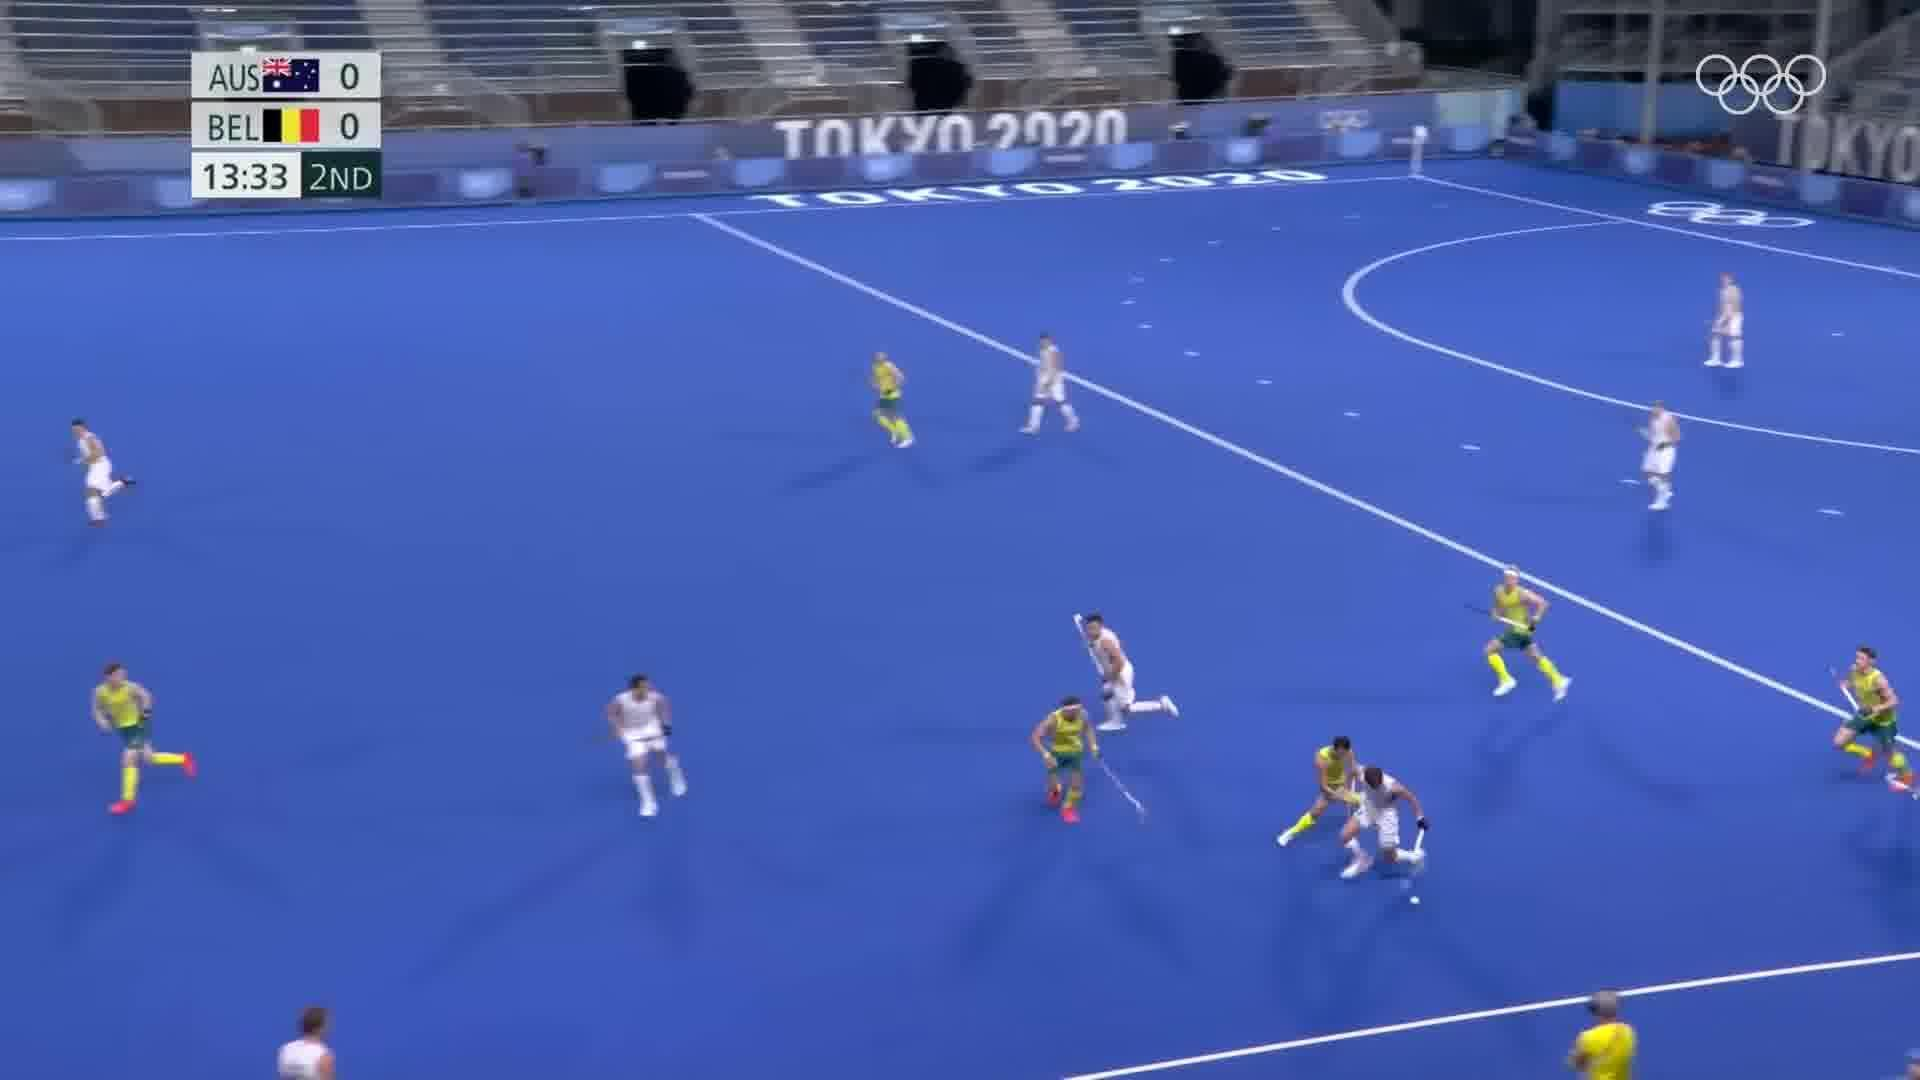ball: (1404, 885, 1424, 911)
